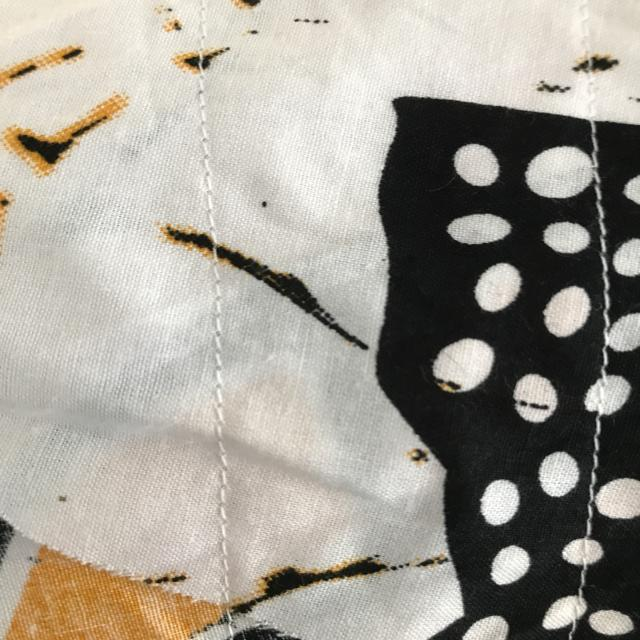good: (191, 350, 246, 464), (589, 422, 605, 478)
